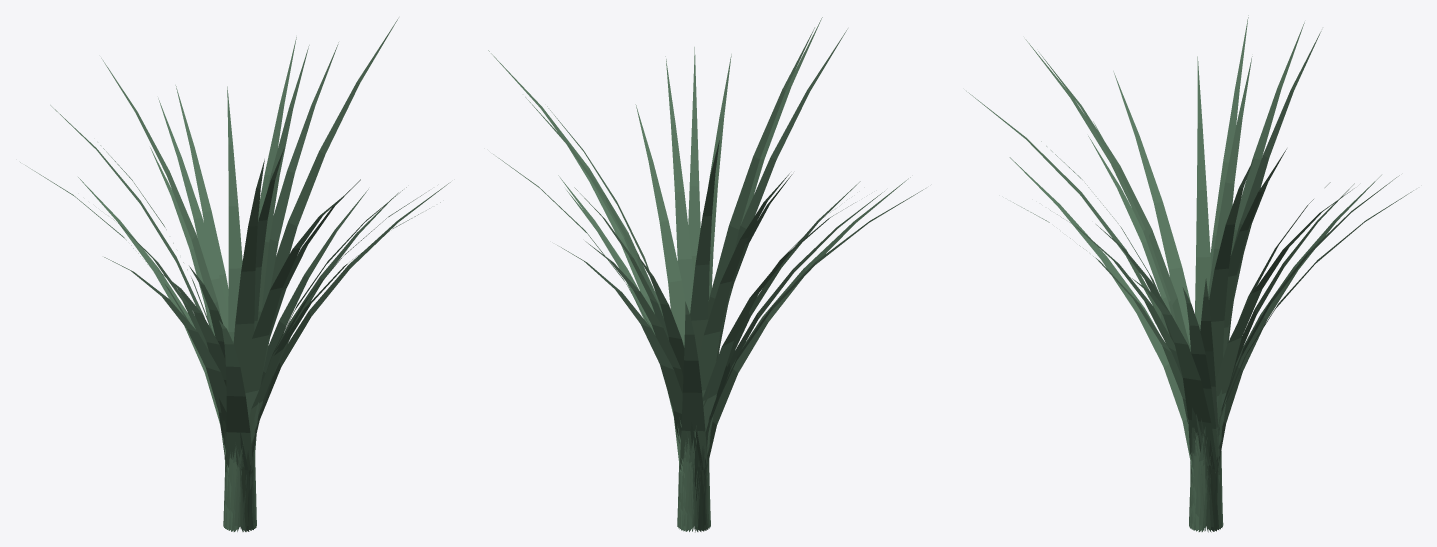
Rendered from ophiopogon-jaburan.glb.
3 views of the same model, side by side, from view 1: azimuth 30°, elevation 25°; view 2: azimuth 150°, elevation 25°; view 3: azimuth 270°, elevation 25° (orthographic).
Visible parts, largest first — view 1: Mondo grass curved blades; view 2: Mondo grass curved blades; view 3: Mondo grass curved blades.
Part boxes in pixels (<box>): Mondo grass curved blades: <box>20,18,450,531</box>; Mondo grass curved blades: <box>488,17,925,532</box>; Mondo grass curved blades: <box>966,15,1413,532</box>.
Size of the model in its own units: 0.2393 by 0.264 by 0.241.
